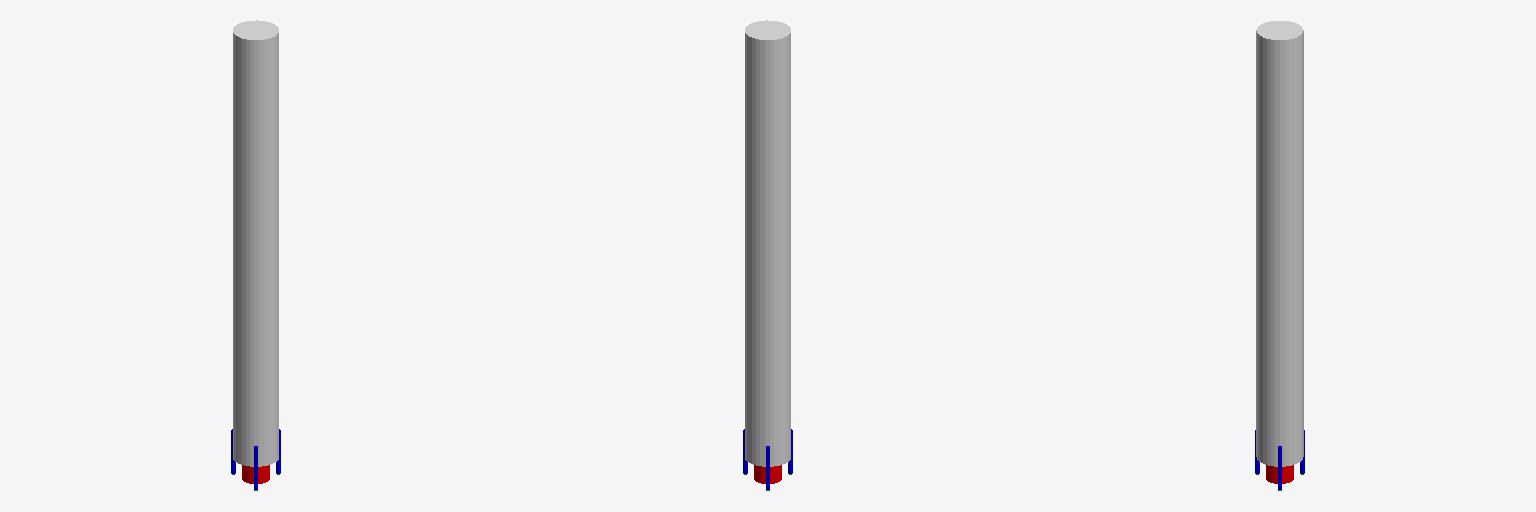
URDF robot description (starship):
<?xml version="1.0"?>
<robot name="starship">
  <!-- Badan utama: silinder dengan diameter 0.1 m dan tinggi 1.0 m, massa 3 kg -->
  <link name="body">
    <inertial>
      <origin xyz="0 0 0" />
      <mass value="3.0"/>
      <!-- Inersia kasar: perhitungan untuk silinder (r=0.05, h=1.0) -->
      <inertia ixx="0.25" ixy="0" ixz="0" iyy="0.25" iyz="0" izz="0.00375"/>
    </inertial>
    <visual>
      <origin xyz="0 0 0" rpy="0 0 0"/>
      <geometry>
         <cylinder radius="0.05" length="1.0"/>
      </geometry>
      <material name="white">
         <color rgba="0.9 0.9 0.9 1"/>
      </material>
    </visual>
    <collision>
      <origin xyz="0 0 0" rpy="0 0 0"/>
      <geometry>
         <cylinder radius="0.05" length="1.0"/>
      </geometry>
    </collision>
  </link>

  <!-- Gimbal untuk thruster utama (rotasi terhadap sumbu Y) -->
  <link name="gimbal_y_frame">
    <inertial>
      <origin xyz="0 0 0"/>
      <mass value="0.001"/>
      <inertia ixx="0.0001" ixy="0" ixz="0" iyy="0.0001" iyz="0" izz="0.0001"/>
    </inertial>
  </link>
  <joint name="gimbal_y" type="revolute">
    <parent link="body"/>
    <child link="gimbal_y_frame"/>
    <!-- Pasang di bagian bawah body (z = -0.5) -->
    <origin xyz="0 0 -0.5" rpy="0 0 0"/>
    <axis xyz="0 1 0"/>
    <limit lower="-0.5" upper="0.5" effort="10" velocity="1.0"/>
  </joint>

  <!-- Gimbal kedua untuk thruster utama (rotasi terhadap sumbu X) -->
  <joint name="gimbal_x" type="revolute">
    <parent link="gimbal_y_frame"/>
    <child link="thruster"/>
    <origin xyz="0 0 0" rpy="0 0 0"/>
    <axis xyz="1 0 0"/>
    <limit lower="-0.5" upper="0.5" effort="10" velocity="1.0"/>
  </joint>

  <!-- Thruster Utama: silinder kecil, massa 1 kg -->
  <link name="thruster">
    <inertial>
      <!-- Pusat massa di tengah (origin diatur ke (0,0,-0.025)) -->
      <origin xyz="0 0 -0.025"/>
      <mass value="1.0"/>
      <!-- Perhitungan inersia kasar untuk silinder (r=0.03, length=0.05) -->
      <inertia ixx="0.000433" ixy="0" ixz="0" iyy="0.000433" iyz="0" izz="0.00045"/>
    </inertial>
    <visual>
      <origin xyz="0 0 -0.025" rpy="0 0 0"/>
      <geometry>
        <cylinder radius="0.03" length="0.05"/>
      </geometry>
      <material name="red">
        <color rgba="1 0 0 1"/>
      </material>
    </visual>
    <collision>
      <origin xyz="0 0 -0.025" rpy="0 0 0"/>
      <geometry>
        <cylinder radius="0.03" length="0.05"/>
      </geometry>
    </collision>
  </link>

  <!-- Tiga kaki landing berbentuk silinder (panjang 0.1 m, diameter 0.01 m) -->
  <!-- Leg 1 (sudut 0°) -->
  <joint name="leg_1_joint" type="fixed">
    <parent link="body"/>
    <!-- Ditempatkan 5.5 cm dari pusat, pada z = -0.5 (bawah badan) -->
    <origin xyz="0.055 0 -0.5" rpy="0 0 0"/>
    <child link="leg_1"/>
  </joint>
  <link name="leg_1">
    <inertial>
      <!-- Geser pusat massa ke tengah kaki (0,0,-0.05) -->
      <origin xyz="0 0 0"/>
      <mass value="0.32"/>
      <inertia ixx="0.00027" ixy="0" ixz="0" iyy="0.00027" iyz="0" izz="0.000004"/>
    </inertial>
    <visual>
      <origin xyz="0 0 0" rpy="0 0 0"/>
      <geometry>
        <cylinder radius="0.005" length="0.1"/>
      </geometry>
      <material name="blue">
        <color rgba="0 0 1 1"/>
      </material>
    </visual>
    <collision>
      <origin xyz="0 0 0" rpy="0 0 0"/>
      <geometry>
        <cylinder radius="0.005" length="0.1"/>
      </geometry>
    </collision>
  </link>
  <!-- Sensor pada ujung kaki 1 -->
  <joint name="leg_1_sensor_joint" type="fixed">
    <parent link="leg_1"/>
    <origin xyz="0 0 -0.05" rpy="0 0 0"/>
    <child link="leg_1_sensor"/>
  </joint>
  <link name="leg_1_sensor">
    <inertial>
      <origin xyz="0 0 0"/>
      <mass value="0.01"/>
      <inertia ixx="0.000001" ixy="0" ixz="0" iyy="0.000001" iyz="0" izz="0.000001"/>
    </inertial>
    <visual>
      <origin xyz="0 0 0" rpy="0 0 0"/>
      <geometry>
        <sphere radius="0.005"/>
      </geometry>
      <material name="green">
        <color rgba="0 1 0 1"/>
      </material>
    </visual>
    <collision>
      <origin xyz="0 0 0" rpy="0 0 0"/>
      <geometry>
        <sphere radius="0.005"/>
      </geometry>
    </collision>
  </link>

  <!-- Leg 2 (sudut 120°) -->
  <joint name="leg_2_joint" type="fixed">
    <parent link="body"/>
    <!-- Hitung posisi: cos(120°) = -0.5, sin(120°) ≈ 0.866 -->
    <origin xyz="-0.0275 0.0476 -0.5" rpy="0 0 0"/>
    <child link="leg_2"/>
  </joint>
  <link name="leg_2">
    <inertial>
      <origin xyz="0 0 0"/>
      <mass value="0.32"/>
      <inertia ixx="0.00027" ixy="0" ixz="0" iyy="0.00027" iyz="0" izz="0.000004"/>
    </inertial>
    <visual>
      <origin xyz="0 0 0" rpy="0 0 0"/>
      <geometry>
        <cylinder radius="0.005" length="0.1"/>
      </geometry>
      <material name="blue">
        <color rgba="0 0 1 1"/>
      </material>
    </visual>
    <collision>
      <origin xyz="0 0 0" rpy="0 0 0"/>
      <geometry>
        <cylinder radius="0.005" length="0.1"/>
      </geometry>
    </collision>
  </link>
  <!-- Sensor pada ujung kaki 2 -->
  <joint name="leg_2_sensor_joint" type="fixed">
    <parent link="leg_2"/>
    <origin xyz="0 0 -0.05" rpy="0 0 0"/>
    <child link="leg_2_sensor"/>
  </joint>
  <link name="leg_2_sensor">
    <inertial>
      <origin xyz="0 0 0"/>
      <mass value="0.01"/>
      <inertia ixx="0.000001" ixy="0" ixz="0" iyy="0.000001" iyz="0" izz="0.000001"/>
    </inertial>
    <visual>
      <origin xyz="0 0 0" rpy="0 0 0"/>
      <geometry>
        <sphere radius="0.005"/>
      </geometry>
      <material name="green">
        <color rgba="0 1 0 1"/>
      </material>
    </visual>
    <collision>
      <origin xyz="0 0 0" rpy="0 0 0"/>
      <geometry>
        <sphere radius="0.005"/>
      </geometry>
    </collision>
  </link>

  <!-- Leg 3 (sudut 240°) -->
  <joint name="leg_3_joint" type="fixed">
    <parent link="body"/>
    <!-- Hitung posisi: cos(240°) = -0.5, sin(240°) ≈ -0.866 -->
    <origin xyz="-0.0275 -0.0476 -0.5" rpy="0 0 0"/>
    <child link="leg_3"/>
  </joint>
  <link name="leg_3">
    <inertial>
      <origin xyz="0 0 0"/>
      <mass value="0.32"/>
      <inertia ixx="0.00027" ixy="0" ixz="0" iyy="0.00027" iyz="0" izz="0.000004"/>
    </inertial>
    <visual>
      <origin xyz="0 0 0" rpy="0 0 0"/>
      <geometry>
        <cylinder radius="0.005" length="0.1"/>
      </geometry>
      <material name="blue">
        <color rgba="0 0 1 1"/>
      </material>
    </visual>
    <collision>
      <origin xyz="0 0 0" rpy="0 0 0"/>
      <geometry>
        <cylinder radius="0.005" length="0.1"/>
      </geometry>
    </collision>
  </link>
  <!-- Sensor pada ujung kaki 3 -->
  <joint name="leg_3_sensor_joint" type="fixed">
    <parent link="leg_3"/>
    <origin xyz="0 0 -0.05" rpy="0 0 0"/>
    <child link="leg_3_sensor"/>
  </joint>
  <link name="leg_3_sensor">
    <inertial>
      <origin xyz="0 0 0"/>
      <mass value="0.01"/>
      <inertia ixx="0.000001" ixy="0" ixz="0" iyy="0.000001" iyz="0" izz="0.000001"/>
    </inertial>
    <visual>
      <origin xyz="0 0 0" rpy="0 0 0"/>
      <geometry>
        <sphere radius="0.005"/>
      </geometry>
      <material name="green">
        <color rgba="0 1 0 1"/>
      </material>
    </visual>
    <collision>
      <origin xyz="0 0 0" rpy="0 0 0"/>
      <geometry>
        <sphere radius="0.005"/>
      </geometry>
    </collision>
  </link>
</robot>

--- Facts derived from the render (not from the file) ---
Views: 3 orthographic renders of the robot side by side, from view 1: azimuth 30°, elevation 25°; view 2: azimuth 150°, elevation 25°; view 3: azimuth 270°, elevation 25°.
Robot: starship — 9 links, 8 joints (2 revolute, 6 fixed); root link body; default pose: all joints at 0.
Visible links, largest first — view 1: body; view 2: body; view 3: body.
Link boxes in pixels (<box>): body: <box>233,20,278,466</box>; body: <box>745,20,790,466</box>; body: <box>1256,21,1303,466</box>.
Bounding box of the posed robot: 0.11 × 0.1052 × 1.05 m (x, y, z).
Geometry: primitives only (box / cylinder / sphere), no mesh files.